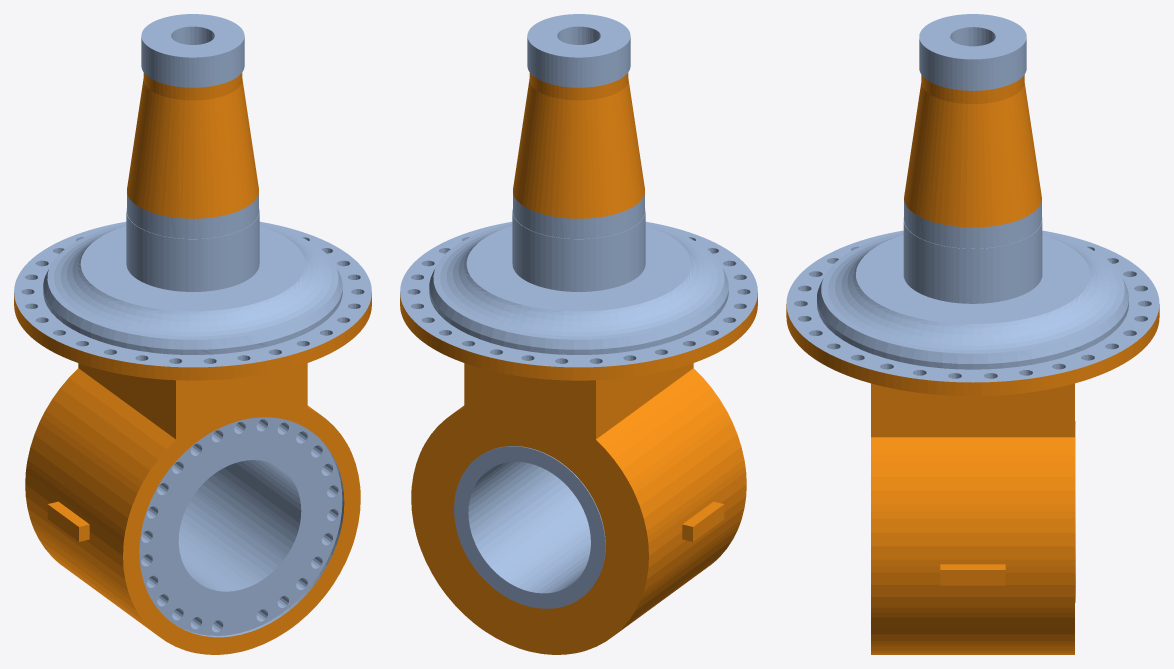
File: SPINDLE_930.fbx
3 renders of one model, left to right at view 1: azimuth 30°, elevation 25°; view 2: azimuth 150°, elevation 25°; view 3: azimuth 270°, elevation 25°, orthographic. The views are drawn at different scales.
Parts seen in each view (by area): view 1: Spindle, Solid1_2; view 2: Spindle, Solid1_2; view 3: Spindle, Solid1.
Part boxes in pixels (x1,y1,x2,y2): Spindle: (14, 14, 371, 654); Solid1_2: (47, 501, 89, 541); Spindle: (400, 14, 757, 654); Solid1_2: (682, 501, 724, 541); Spindle: (786, 14, 1159, 654); Solid1: (940, 564, 1005, 585).
Bounding box in the file's own units: 86 × 154 × 86.
